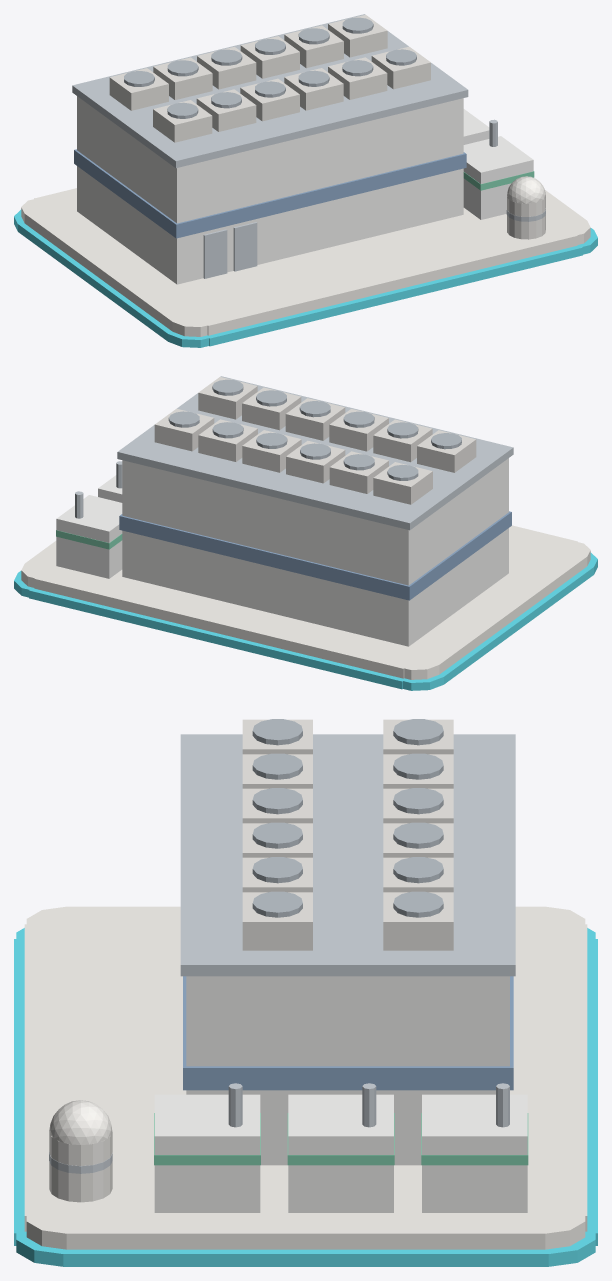
The model's file is datacenter.glb.
3 views of the same model, one above another, from view 1: azimuth 30°, elevation 25°; view 2: azimuth 150°, elevation 25°; view 3: azimuth 270°, elevation 25° (orthographic). The views are drawn at different scales.
Visible parts, largest first — view 1: white, base, concrete, metal, rim_22c7e8, window, pipe, battery, tank, battery_accent; view 2: white, base, concrete, metal, rim_22c7e8, window, pipe, battery, battery_accent; view 3: base, metal, white, battery, concrete, rim_22c7e8, pipe, window, tank, battery_accent.
Part boxes in pixels (<box>): white: <box>77,96,463,284</box>; base: <box>21,188,590,336</box>; concrete: <box>109,14,430,142</box>; metal: <box>72,14,545,278</box>; rim_22c7e8: <box>14,209,597,347</box>; window: <box>74,149,466,238</box>; pipe: <box>124,17,416,118</box>; battery: <box>463,109,533,219</box>; tank: <box>507,176,545,239</box>; battery_accent: <box>463,171,534,190</box>; white: <box>122,458,508,646</box>; base: <box>21,525,590,679</box>; concrete: <box>154,377,476,504</box>; metal: <box>75,376,513,530</box>; rim_22c7e8: <box>14,552,597,690</box>; window: <box>119,511,511,600</box>; pipe: <box>168,379,461,480</box>; battery: <box>56,475,122,578</box>; battery_accent: <box>56,530,122,549</box>; base: <box>24,906,587,1249</box>; metal: <box>49,734,515,1173</box>; white: <box>186,976,509,1165</box>; battery: <box>154,1094,527,1212</box>; concrete: <box>242,719,453,950</box>; rim_22c7e8: <box>14,928,597,1266</box>; pipe: <box>252,719,443,917</box>; window: <box>183,976,513,1090</box>; tank: <box>49,1100,112,1202</box>; battery_accent: <box>154,1113,528,1165</box>.
Bounding box in the file's own units: 11.3 × 4.16 × 8.3.
